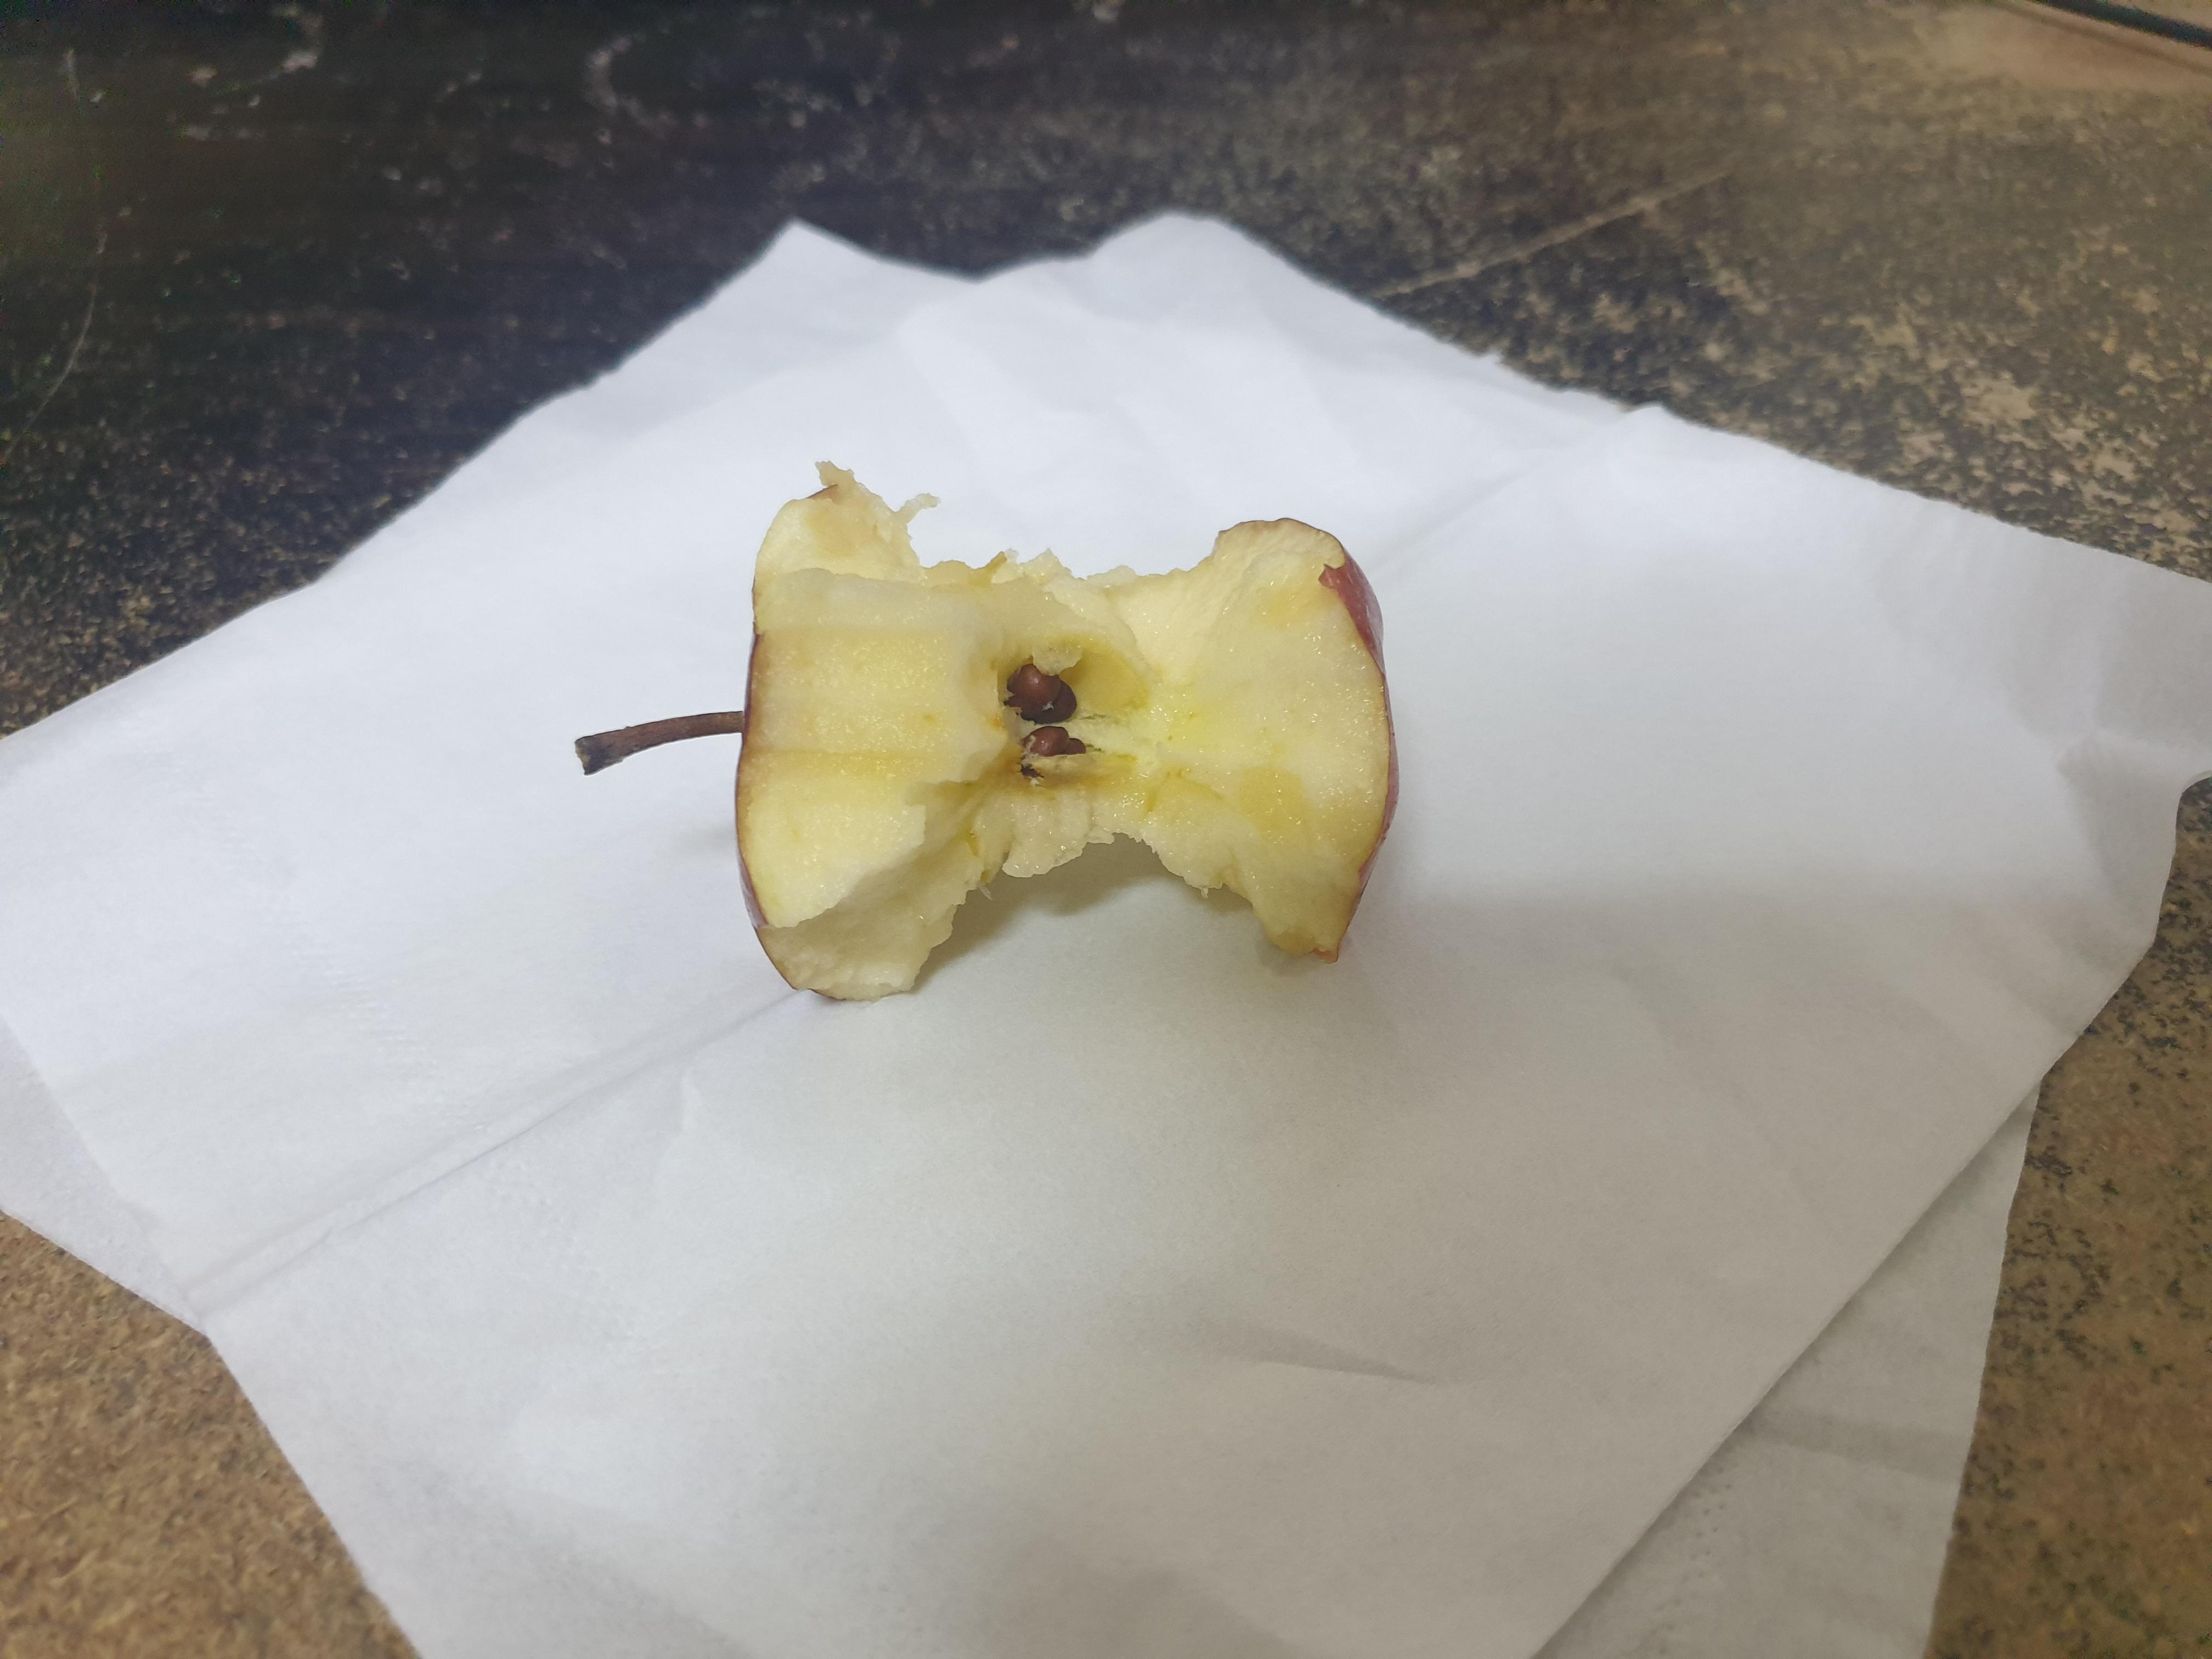Apple: (535, 448, 1486, 1040)
